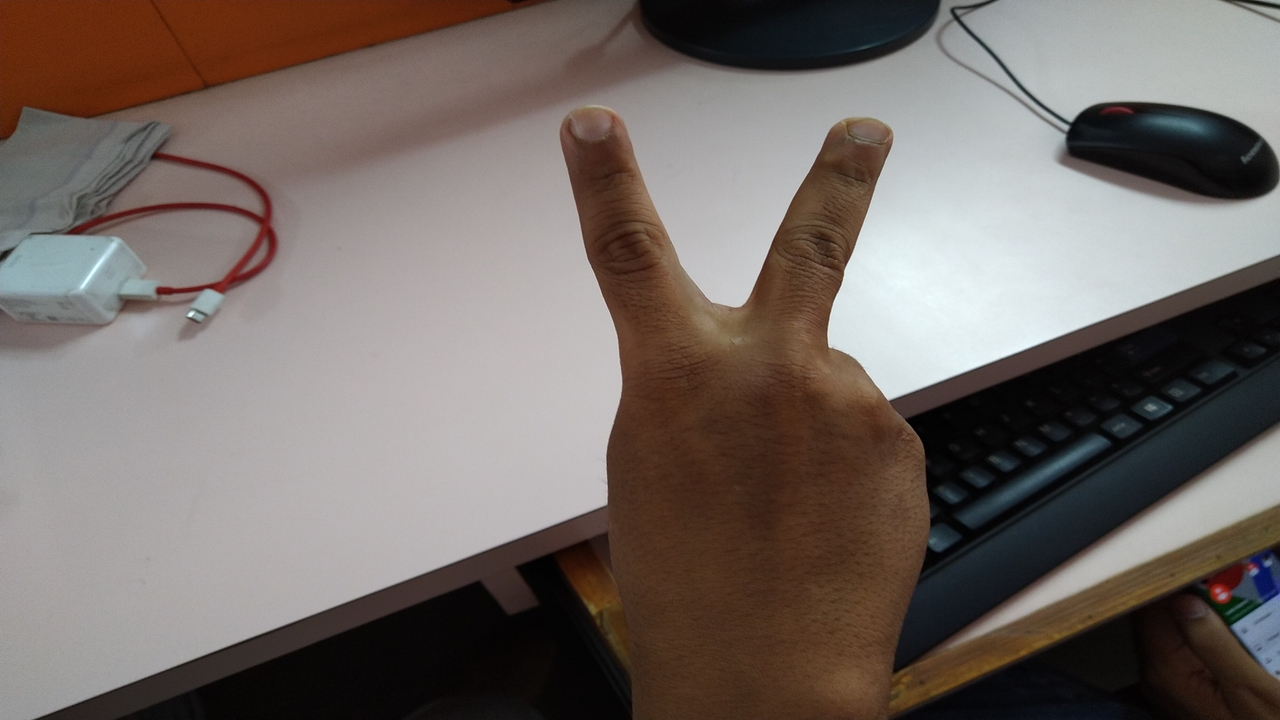fingertip: (554, 100, 628, 160), (824, 112, 900, 168)
